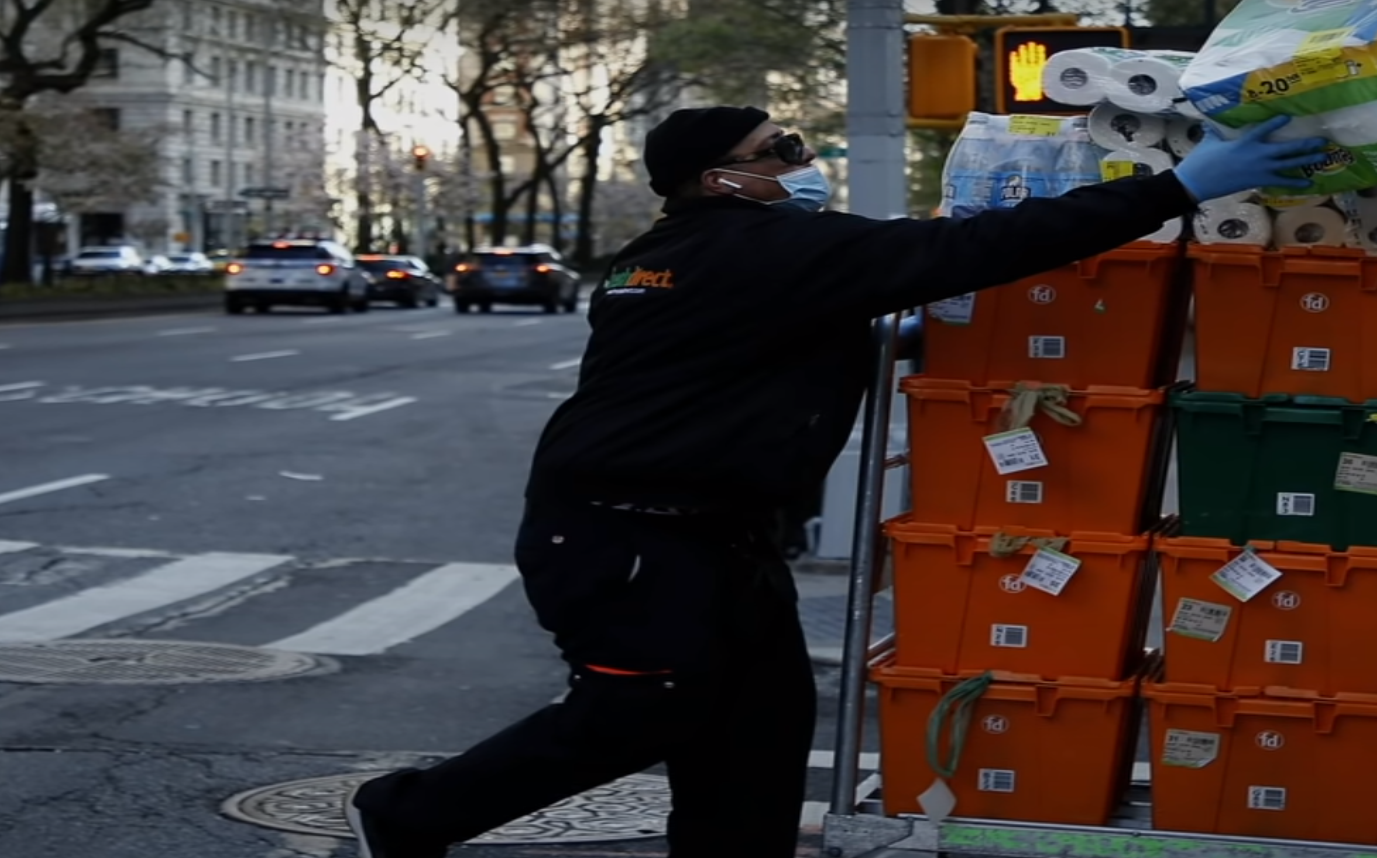mask_weared_incorrect: (646, 104, 833, 217)
